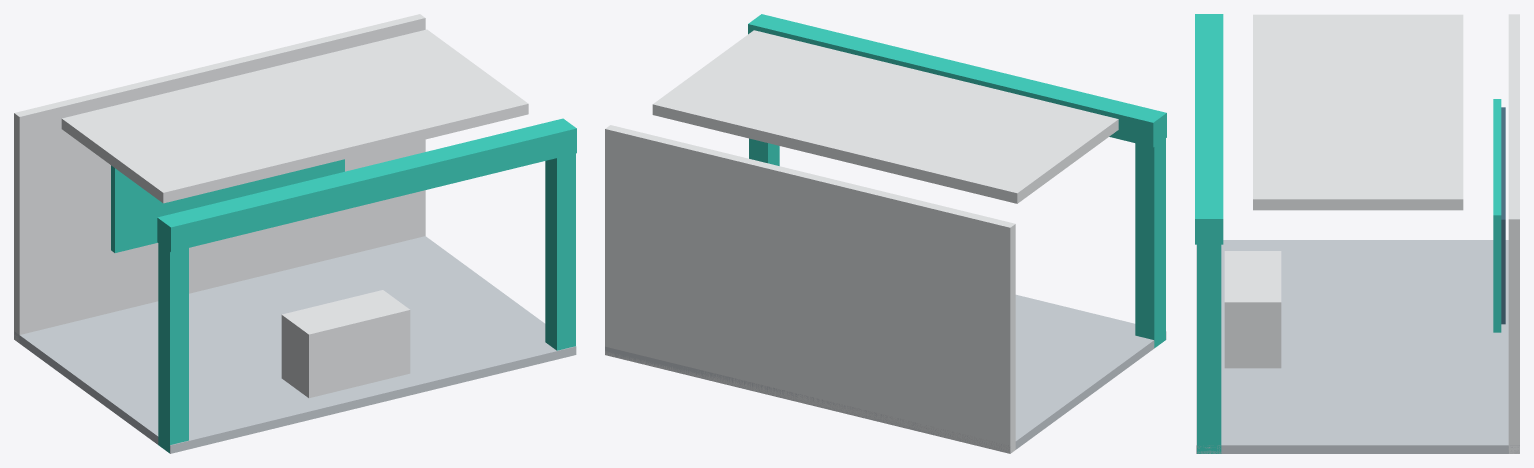
The picture shows the model from 3 angles, left to right: view 1: azimuth 30°, elevation 25°; view 2: azimuth 150°, elevation 25°; view 3: azimuth 270°, elevation 25°; orthographic projection. The views are drawn at different scales.
Visible parts, largest first — view 1: Exhibition Booth Concept; view 2: Exhibition Booth Concept; view 3: Exhibition Booth Concept.
Boxes of the visible parts, left/top/right/bottom form: Exhibition Booth Concept: left=14, top=14, right=576, bottom=453; Exhibition Booth Concept: left=605, top=14, right=1166, bottom=453; Exhibition Booth Concept: left=1195, top=14, right=1519, bottom=453.
Bounding box in the file's own units: 6 × 3.34 × 4.02.
